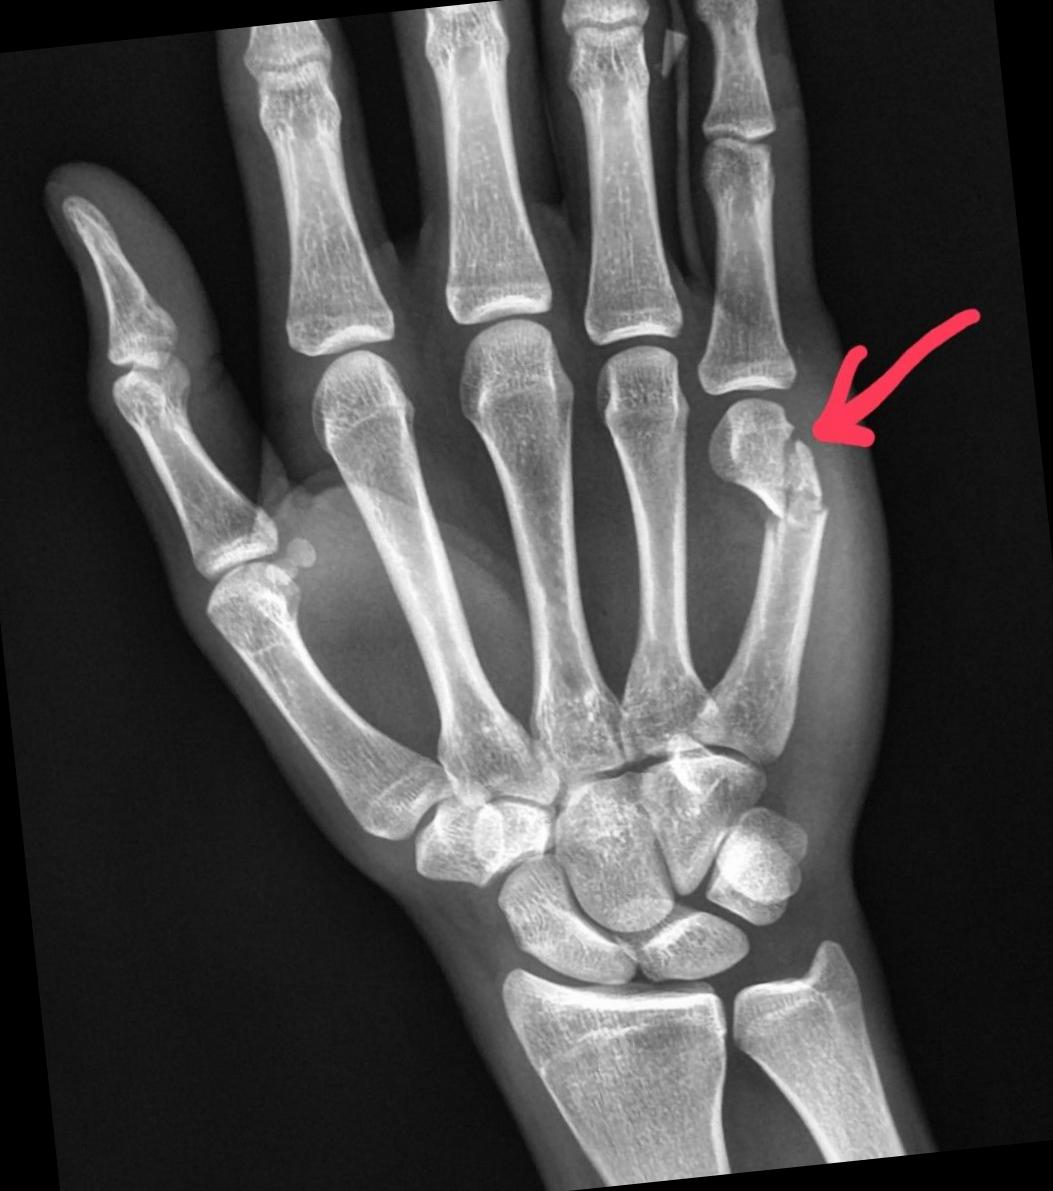fracture: (744, 422, 837, 551)
